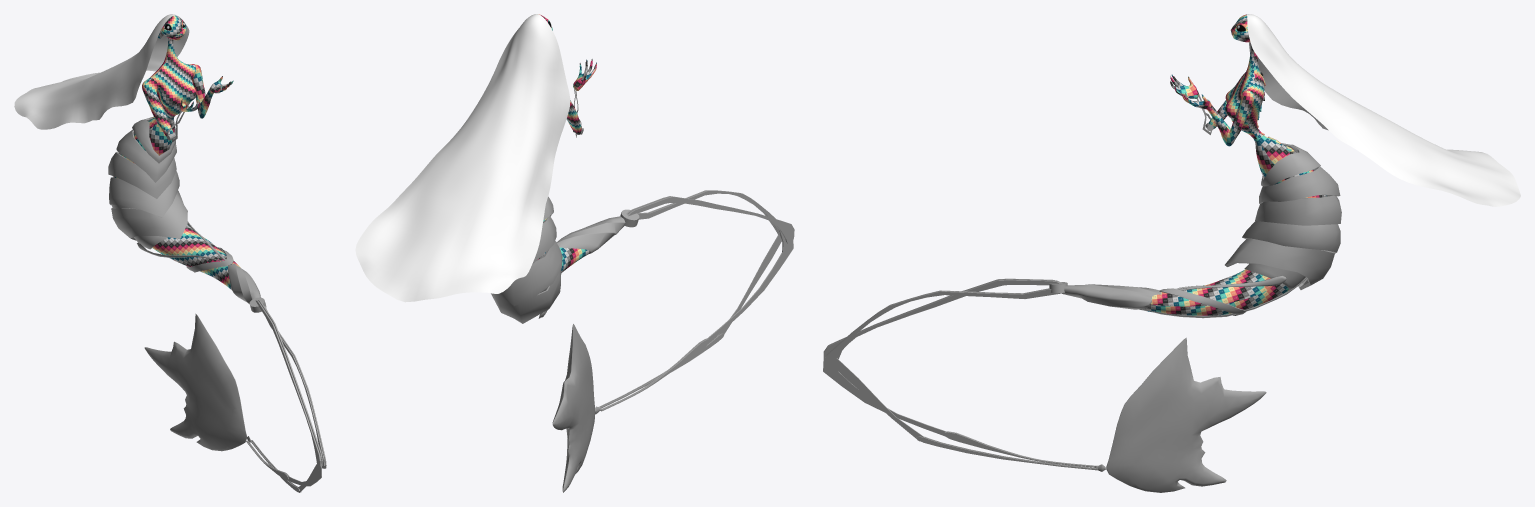
The model's file is mermaid.fbx.
3 renders of one model, left to right at view 1: azimuth 30°, elevation 25°; view 2: azimuth 150°, elevation 25°; view 3: azimuth 270°, elevation 25°, orthographic. The views are drawn at different scales.
Visible parts, largest first — view 1: cola_low, cuerpo_low, Pelo, polySurface6, polySurface5, polySurface4, polySurface3, final_metal_cola, polySurface7, pCube12, pCube38, pCube28 (+1 smaller); view 2: Pelo, cola_low, polySurface5, final_metal_cola, polySurface6, cuerpo_low, pCube12, pCube8, pCube28, pCube21, polySurface4; view 3: Pelo, cola_low, cuerpo_low, polySurface6, polySurface5, polySurface4, final_metal_cola, polySurface3, pCube37, polySurface7, pCube38, pCube8 (+1 smaller).
Part boxes in pixels (x1,y1,x2,y2): cola_low: (144, 313, 246, 451); cuerpo_low: (113, 15, 240, 290); Pelo: (14, 14, 189, 129); polySurface6: (111, 190, 187, 240); polySurface5: (109, 171, 179, 217); polySurface4: (108, 151, 176, 198); polySurface3: (116, 129, 176, 182); final_metal_cola: (228, 263, 260, 303); polySurface7: (132, 116, 175, 163); pCube12: (255, 300, 320, 469); pCube38: (258, 300, 322, 468); pCube28: (266, 318, 324, 468); Pelo: (355, 14, 570, 302); cola_low: (552, 324, 595, 492); polySurface5: (498, 241, 562, 305); final_metal_cola: (556, 216, 625, 253); polySurface6: (491, 269, 561, 323); cuerpo_low: (537, 14, 596, 272); pCube12: (627, 196, 794, 244); pCube8: (706, 230, 793, 341); pCube28: (638, 190, 781, 239); pCube21: (716, 234, 782, 337); polySurface4: (532, 216, 556, 263); Pelo: (1246, 14, 1520, 206); cola_low: (1106, 337, 1266, 492); cuerpo_low: (1139, 14, 1326, 315); polySurface6: (1225, 238, 1334, 289); polySurface5: (1242, 221, 1340, 253); polySurface4: (1255, 195, 1341, 225); final_metal_cola: (1061, 284, 1161, 309); polySurface3: (1259, 166, 1340, 203); pCube37: (824, 289, 1060, 367); polySurface7: (1261, 143, 1320, 186); pCube38: (823, 279, 1060, 360); pCube8: (823, 351, 946, 435).
Bounding box in the file's own units: 5.62 × 18.49 × 24.49.
Materials: 4 (1 with a texture image).
